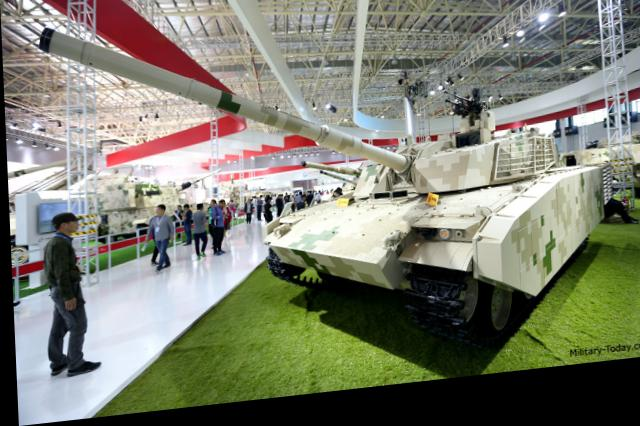other: (38, 213, 85, 378), (147, 205, 169, 279), (188, 204, 206, 261), (210, 199, 225, 262)
tank: (270, 138, 598, 317)
